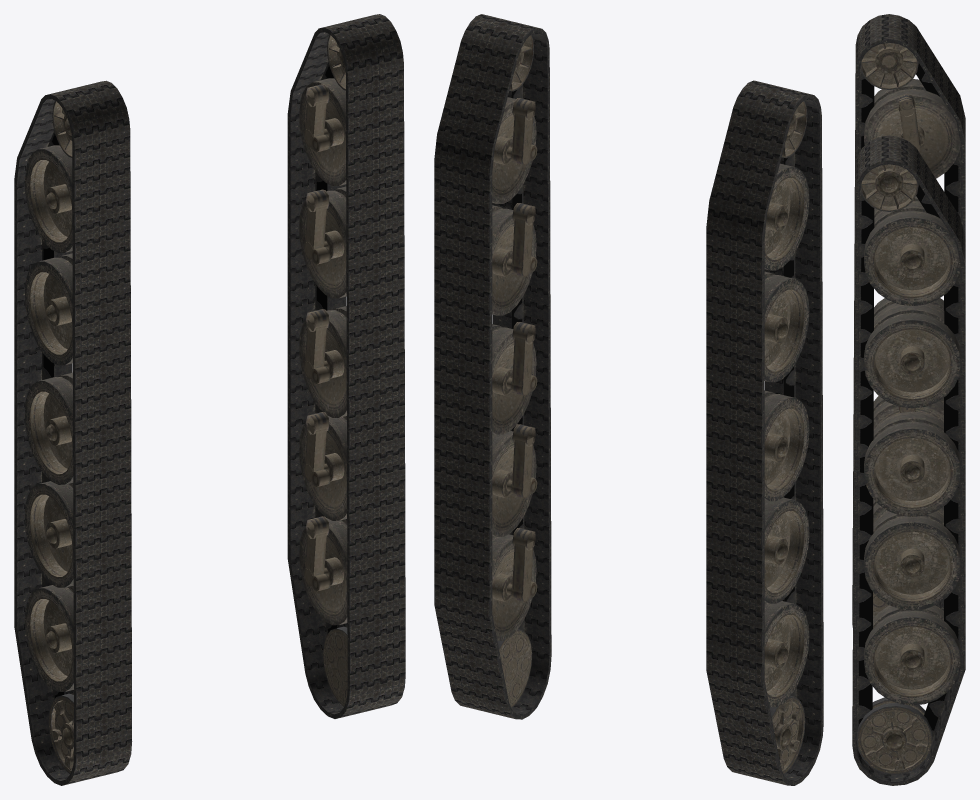
The model's file is Chassis.glb.
The picture shows the model from 3 angles, left to right: view 1: azimuth 30°, elevation 25°; view 2: azimuth 150°, elevation 25°; view 3: azimuth 270°, elevation 25°; orthographic projection. The views are drawn at different scales.
Visible parts, largest first — view 1: set_3_group_0, set_5_group_0, set_1_group_0, set_0_group_0, set_2_group_0, set_4_group_0; view 2: set_5_group_0, set_3_group_0, set_0_group_0, set_1_group_0, set_4_group_0, set_2_group_0; view 3: set_0_group_0, set_3_group_0, set_1_group_0, set_5_group_0, set_2_group_0, set_4_group_0.
Boxes of the visible parts, left/top/right/bottom form: set_3_group_0: left=287, top=14, right=405, bottom=718; set_5_group_0: left=14, top=80, right=132, bottom=785; set_1_group_0: left=25, top=101, right=73, bottom=774; set_0_group_0: left=299, top=34, right=347, bottom=706; set_2_group_0: left=346, top=258, right=405, bottom=494; set_4_group_0: left=72, top=325, right=131, bottom=561; set_5_group_0: left=706, top=80, right=823, bottom=785; set_3_group_0: left=434, top=14, right=551, bottom=719; set_0_group_0: left=492, top=35, right=537, bottom=707; set_1_group_0: left=764, top=100, right=809, bottom=774; set_4_group_0: left=765, top=308, right=823, bottom=531; set_2_group_0: left=492, top=242, right=550, bottom=465; set_0_group_0: left=856, top=164, right=960, bottom=774; set_3_group_0: left=852, top=135, right=965, bottom=785; set_1_group_0: left=860, top=43, right=960, bottom=618; set_5_group_0: left=852, top=14, right=965, bottom=627; set_2_group_0: left=853, top=356, right=873, bottom=570; set_4_group_0: left=853, top=244, right=855, bottom=448.
Size of the model in its own units: 2.95 by 5.89 by 0.9652.
Materials: 6 (6 with a texture image).
